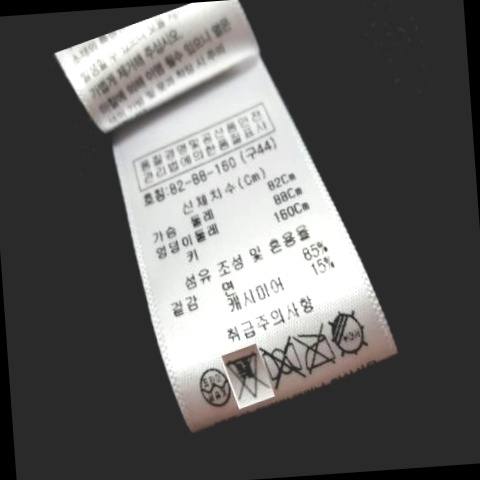DN_iron: (298, 325, 338, 374)
DN_wring: (264, 336, 303, 386)
dry_clean_petrol_only: (196, 358, 232, 411)
dry_flat_in_shade: (325, 304, 370, 362)
non_chlorine_bleach: (228, 348, 265, 401)
